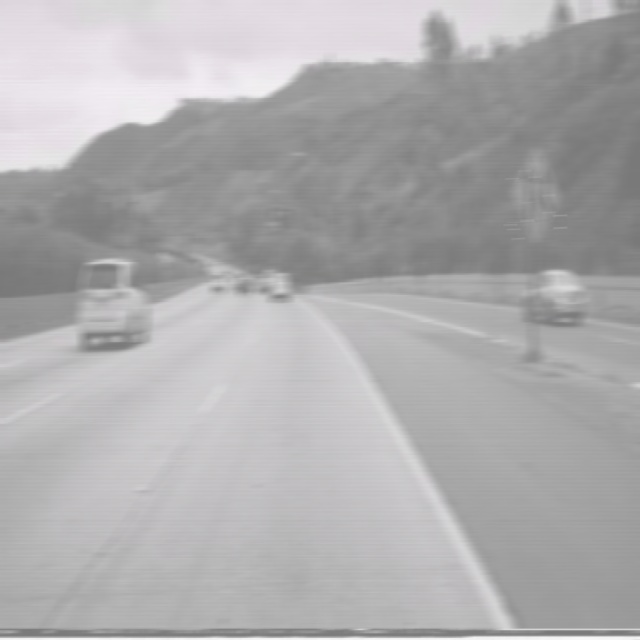addedLane: (509, 140, 561, 245)
